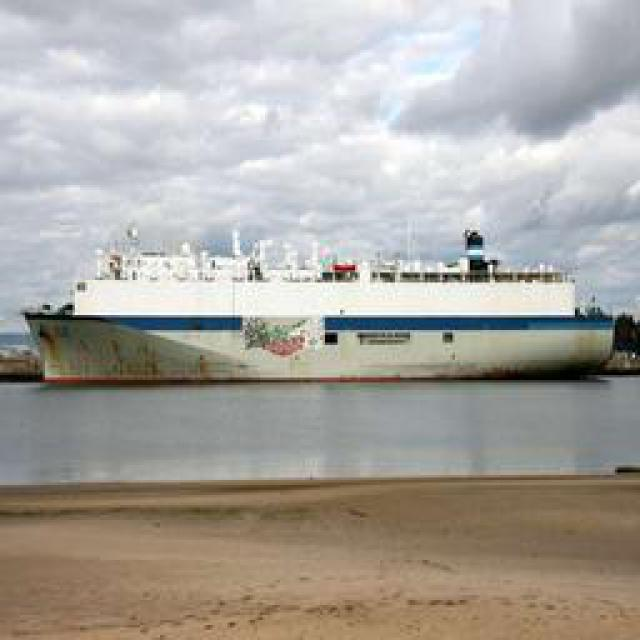Ship: (23, 226, 628, 389)
